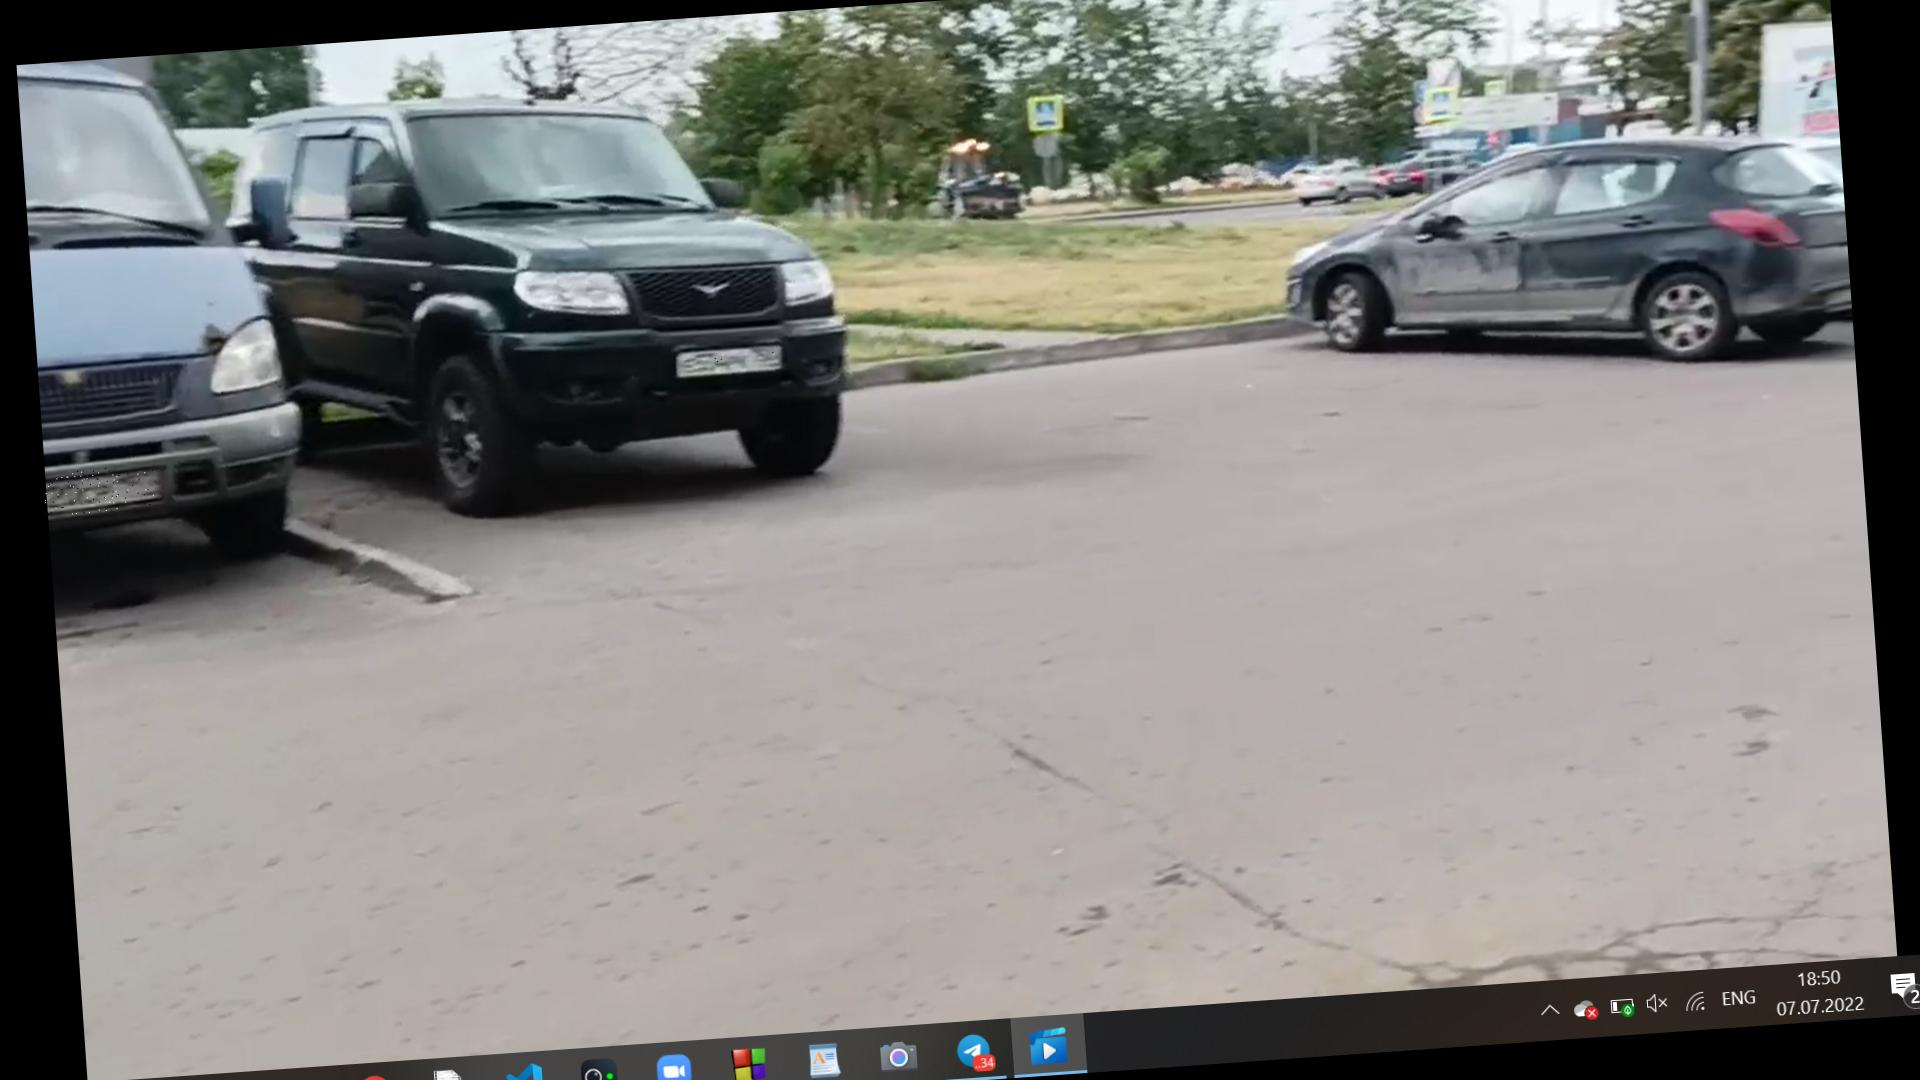plate: (44, 465, 158, 517), (678, 350, 787, 379)
